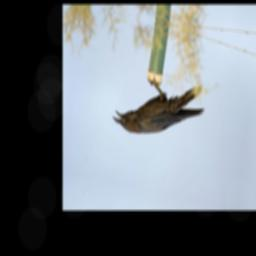Crow: (109, 67, 209, 152)
